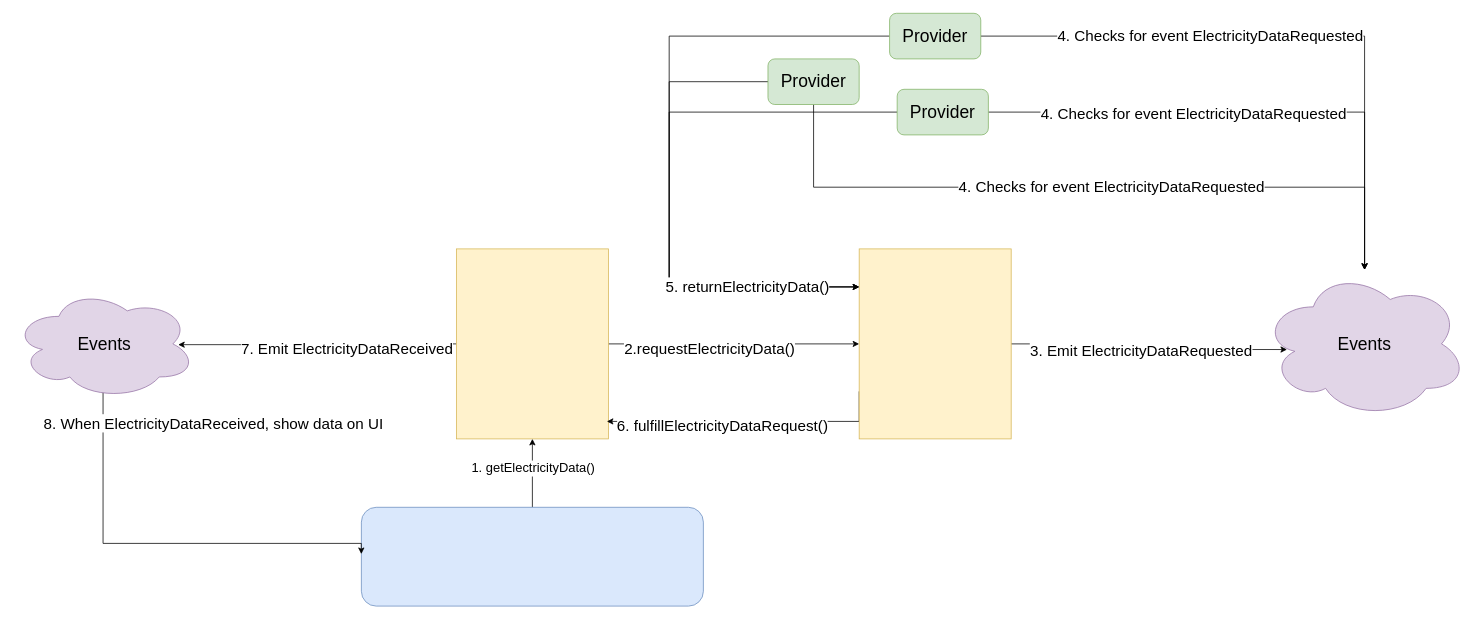
This 1480x619 diagram has some shape labels left out. The centre of each missing label's shape, as x and y in pixels:
"Electricity Trading Hub" belongs at point 532,343.
"Oracle contract" belongs at point 934,343.
"UI" belongs at point 532,556.
